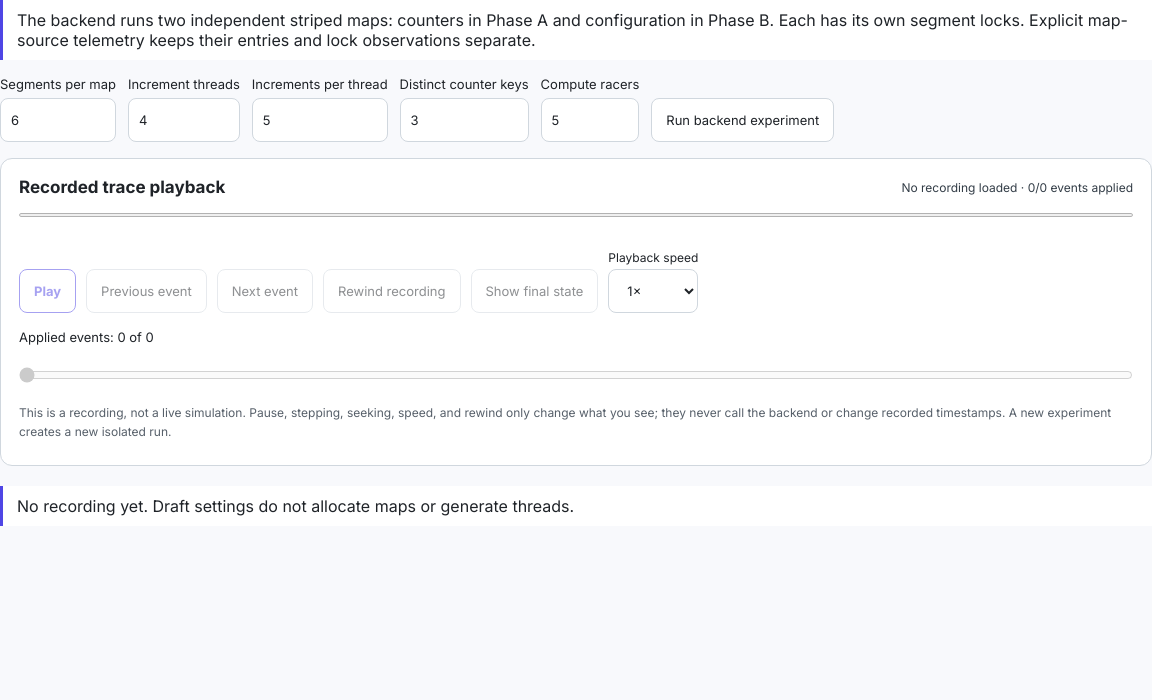
it: bounds large map rendering and follows actual segment metadata rather than hashing keys
Step 1. Submit the form named "Run backend experiment", box [0,76,834,142]
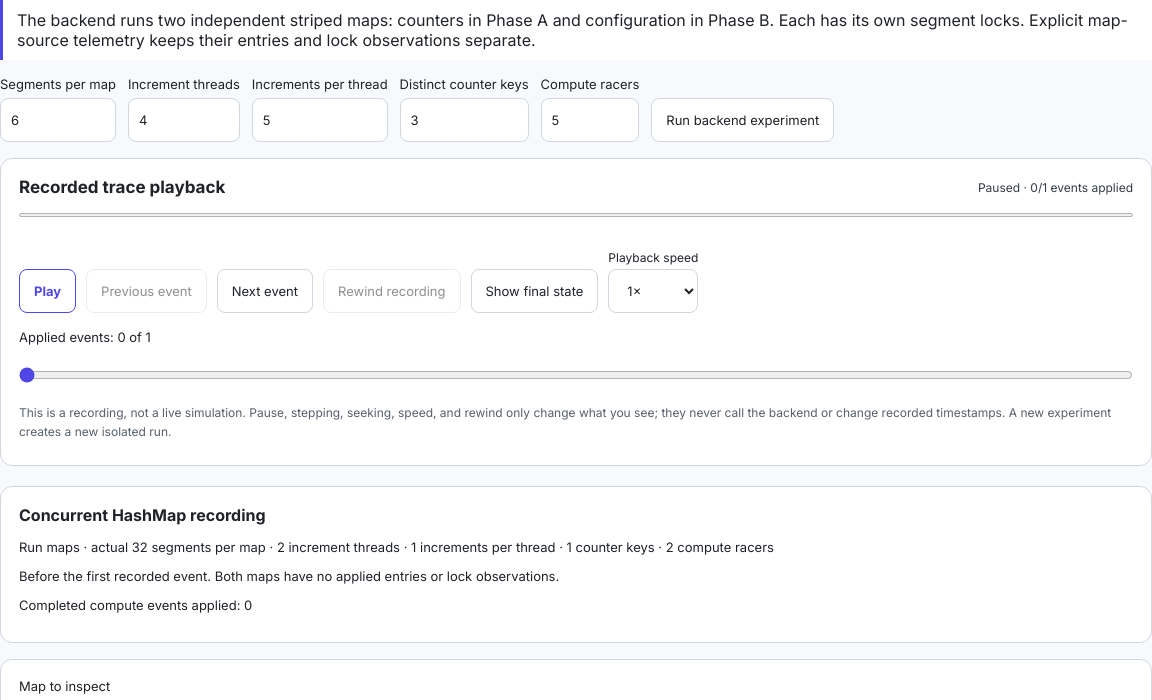
Check: the message shows "Paused · 0/", box [978,180,1133,194]
Step 2. Click the button "Next event" → (265, 291), box [217,269,313,313]
(page scrolled)
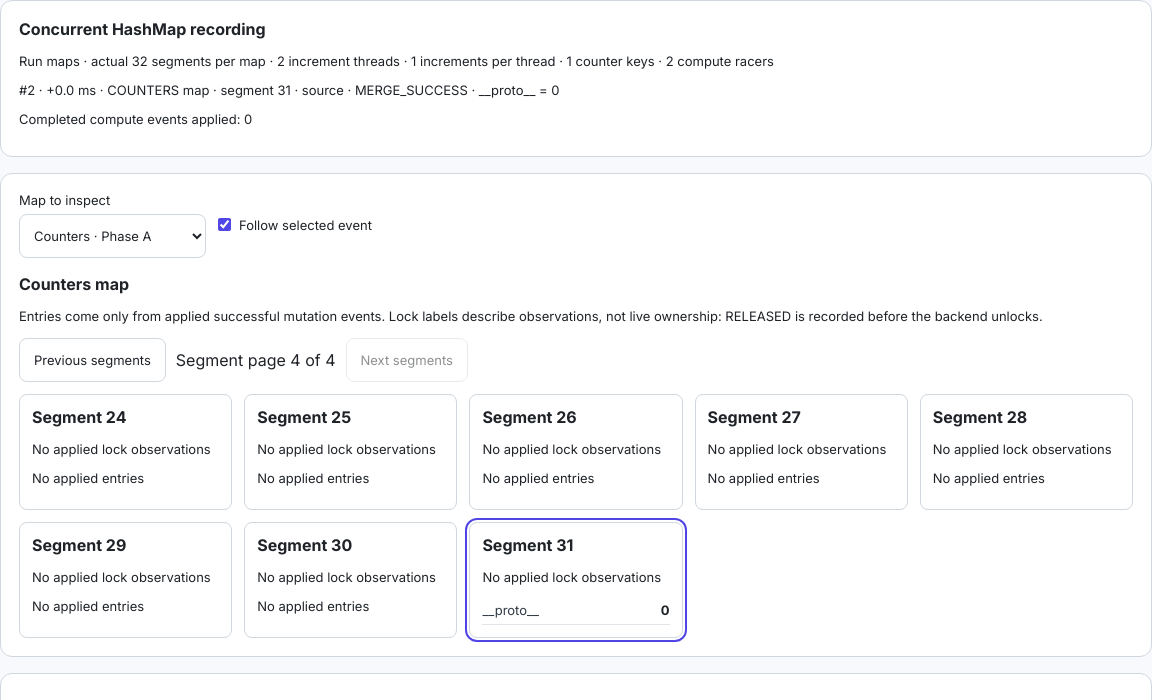
Check: the text "Segment page 4 of 4" is shown, box [176,350,336,370]
Check: the heading "Segment 31" is shown, box [482,535,574,555]
Step 3. Click the button "Previous segments" → (92, 360), box [19,338,166,382]
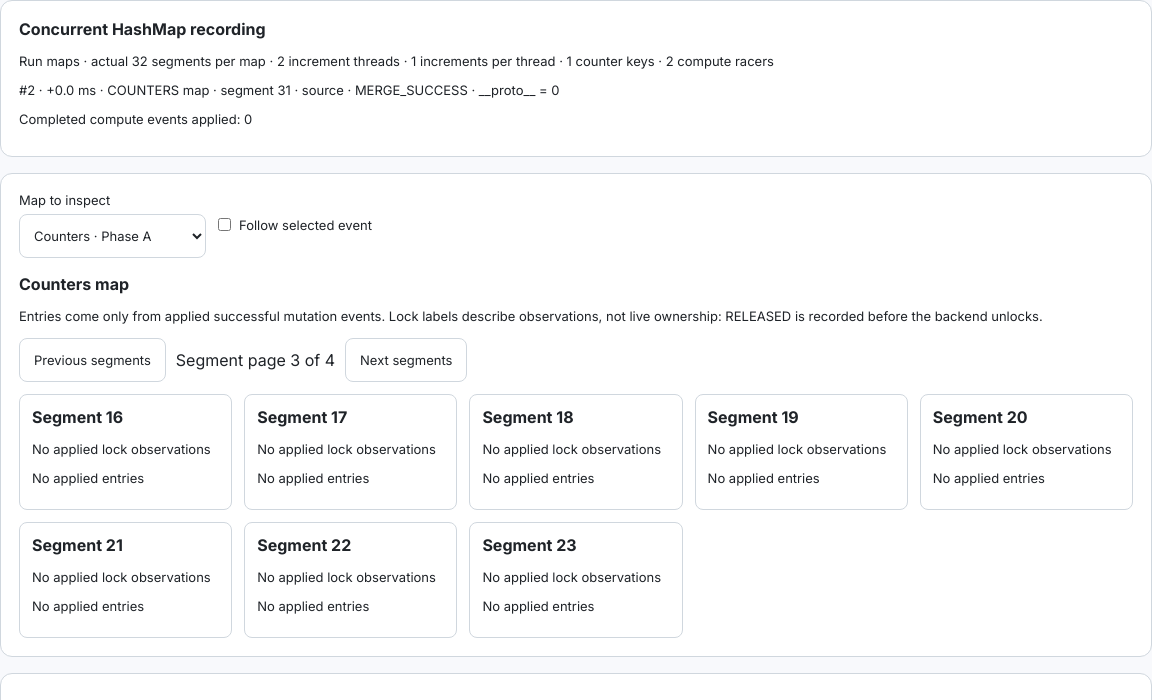
Check: the checkbox labelled "Follow selected event" is not checked
Check: the text "Segment page 3 of 4" is shown, box [176,350,335,370]
Step 4. Click the checkbox labelled "Follow selected event" → (224, 225), box [218,218,231,231]
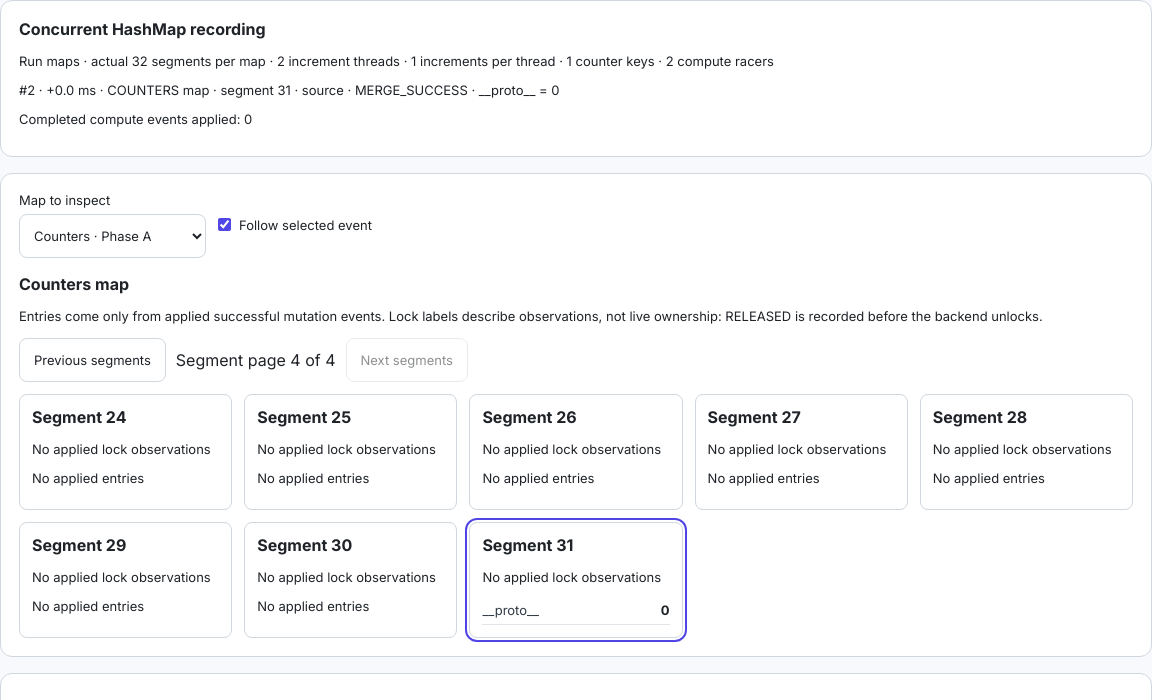
Check: the text "Segment page 4 of 4" is shown, box [176,350,336,370]
Check: the number of list items is 8
